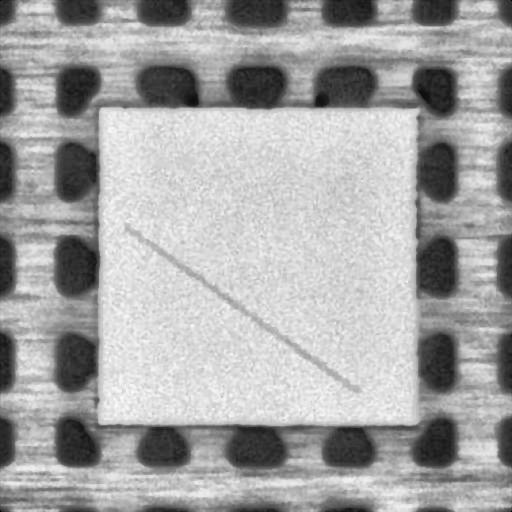DIE_CRACK: (124, 226, 354, 390)
